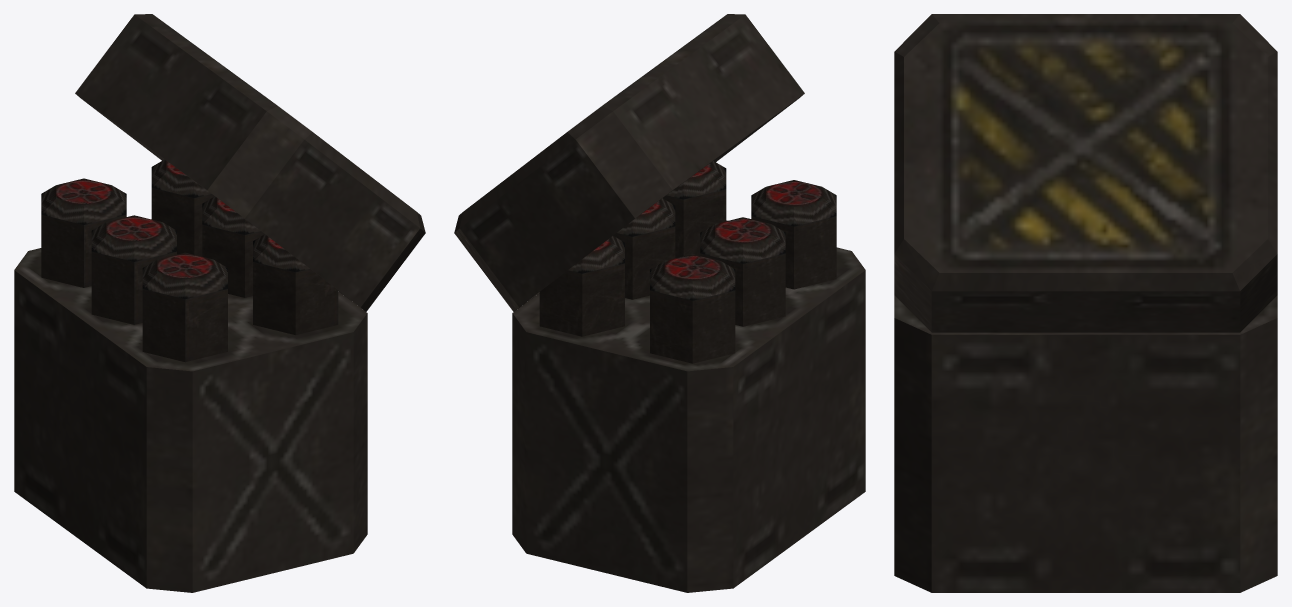
Rendered from rocket_ammo.fbx.
3 views of the same model, side by side, from view 1: azimuth 30°, elevation 25°; view 2: azimuth 150°, elevation 25°; view 3: azimuth 270°, elevation 25° (orthographic). The views are drawn at different scales.
Visible parts, largest first — view 1: rocket_ammo:Regroup00; view 2: rocket_ammo:Regroup00; view 3: rocket_ammo:Regroup00.
Part boxes in pixels (x1,y1,x2,y2): rocket_ammo:Regroup00: (14,14,425,592); rocket_ammo:Regroup00: (454,14,865,592); rocket_ammo:Regroup00: (894,14,1277,592).
Size of the model in its own units: 28.79 by 44.14 by 29.37.
Materials: 1 (1 with a texture image).
